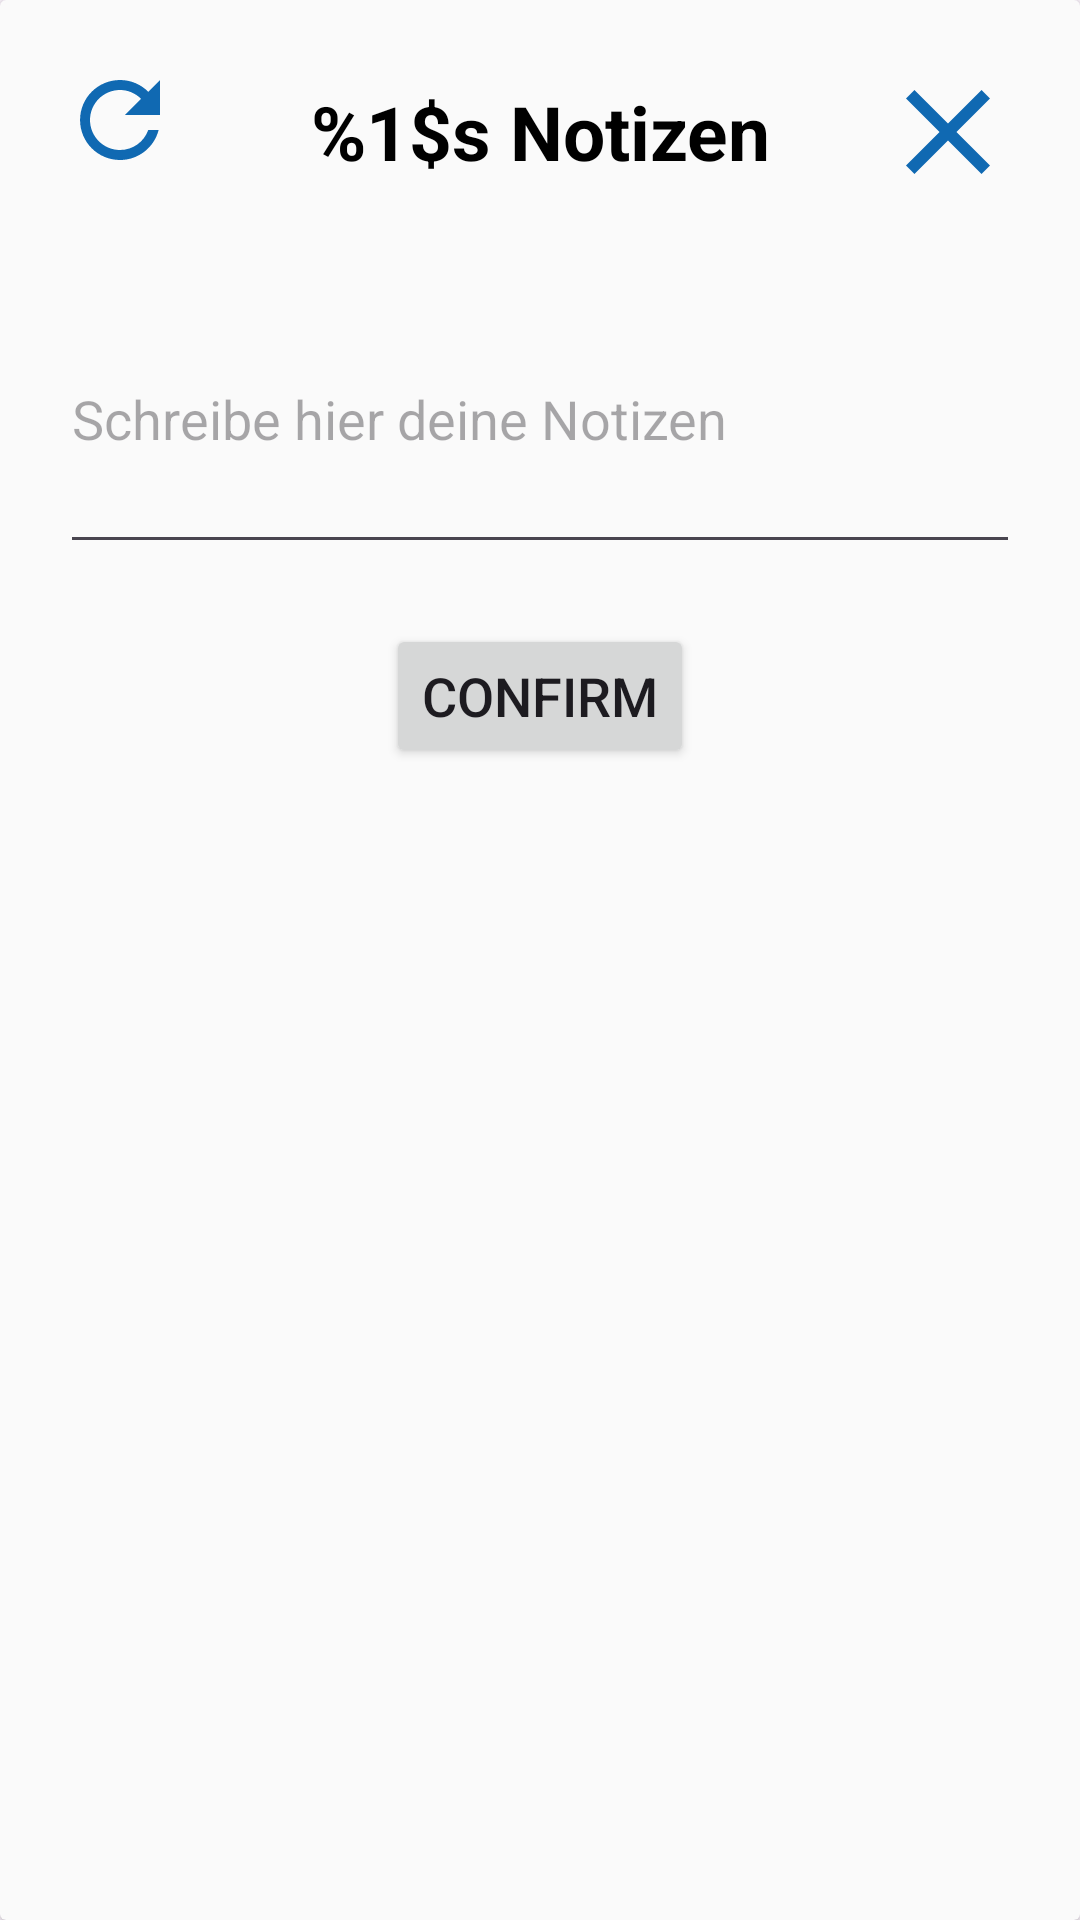

Icons on this 1080×1920 Android screen, each with its box as {"left": x1, "top": y1, "right": x2, "bottom": y2}:
close: {"left": 906, "top": 90, "right": 990, "bottom": 174}
refresh: {"left": 80, "top": 80, "right": 160, "bottom": 160}
